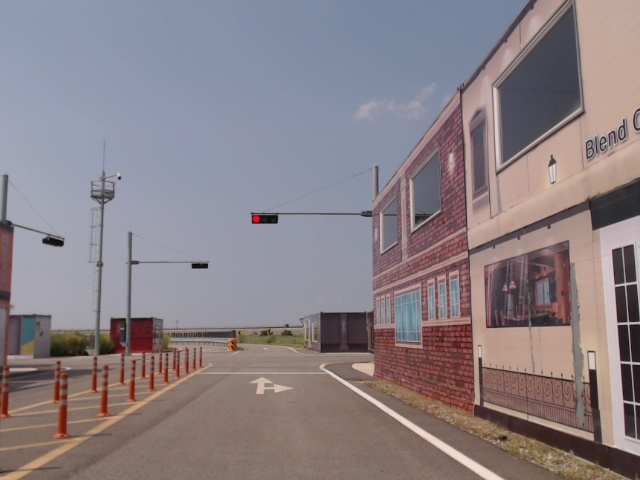red_3: (251, 214, 278, 224)
